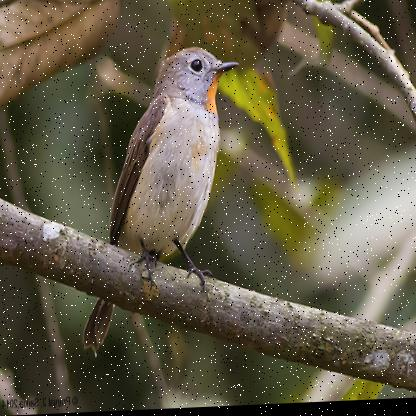Burung: (82, 36, 227, 365)
